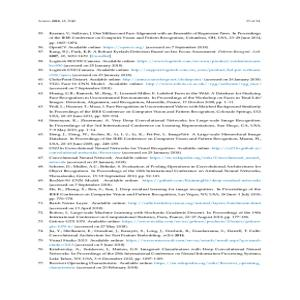text: (36, 29, 264, 272)
